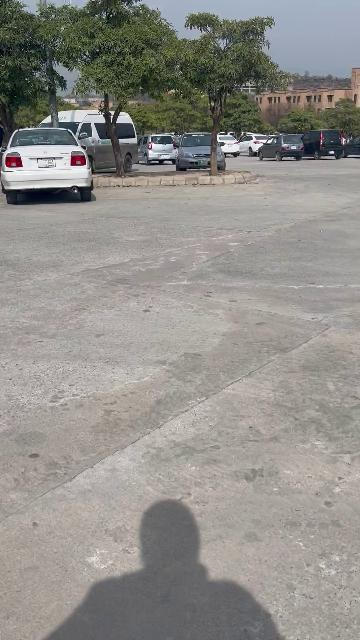plate: (37, 157, 56, 167)
